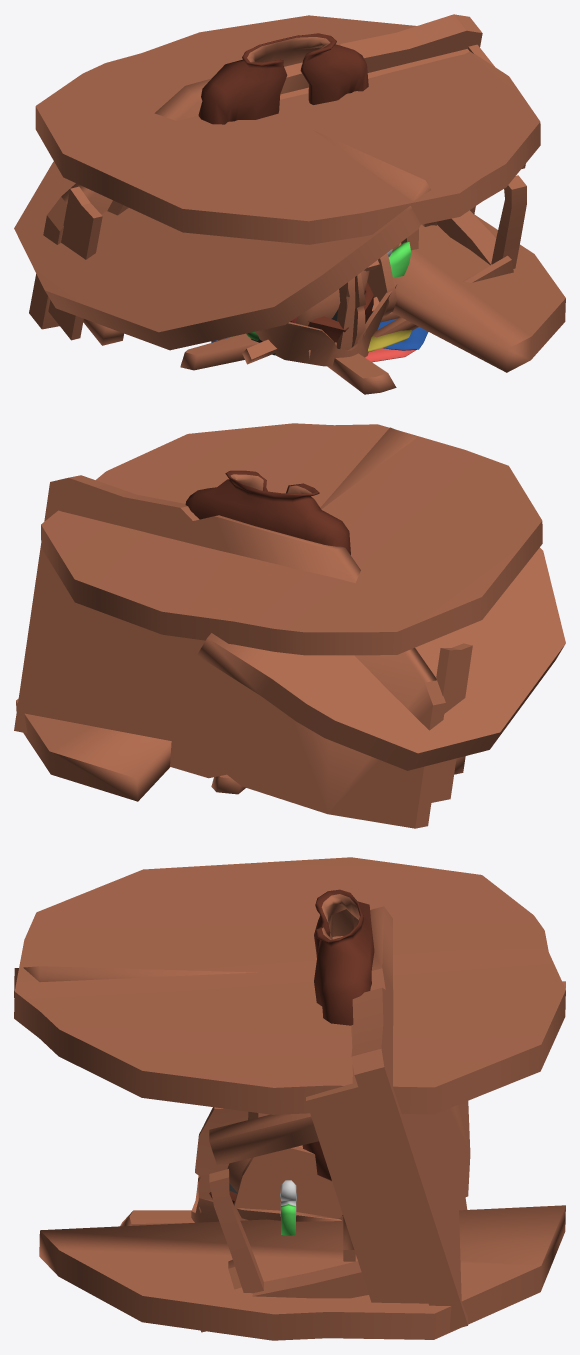
The model's file is pirata objetos Breder.fbx.
3 views of the same model, one above another, from view 1: azimuth 30°, elevation 25°; view 2: azimuth 150°, elevation 25°; view 3: azimuth 270°, elevation 25° (orthographic). The views are drawn at different scales.
Parts seen in each view (by area): view 1: MesaRedonda, MesaRedonda.Quebrada, Mesa.Comum.Quebrada, Casaco, Chapeu3, Cadeira.Comum.Quebrada, Banquinho.Quebrado, Pilha de Roupas, Carne, Chapeu2, PeixeGrande; view 2: MesaRedonda, Mesa.Comum.Quebrada, MesaRedonda.Quebrada, Casaco; view 3: MesaRedonda, Mesa.Comum.Quebrada, MesaRedonda.Quebrada, Casaco, Banquinho.Quebrado, Cadeira.Comum.Quebrada, Chapeu3, Carne.
Boxes of the visible parts, x1,y1,x2,y2 form: MesaRedonda: [35, 15, 540, 394]; MesaRedonda.Quebrada: [14, 130, 565, 372]; Mesa.Comum.Quebrada: [29, 14, 526, 345]; Casaco: [198, 33, 368, 124]; Chapeu3: [255, 280, 397, 366]; Cadeira.Comum.Quebrada: [308, 221, 437, 359]; Banquinho.Quebrado: [216, 253, 397, 364]; Pilha de Roupas: [211, 318, 428, 362]; Carne: [291, 249, 392, 326]; Chapeu2: [290, 282, 373, 342]; PeixeGrande: [246, 242, 411, 340]; MesaRedonda: [41, 423, 542, 794]; Mesa.Comum.Quebrada: [14, 475, 472, 828]; MesaRedonda.Quebrada: [16, 427, 565, 801]; Casaco: [185, 470, 350, 554]; MesaRedonda: [14, 857, 565, 1226]; Mesa.Comum.Quebrada: [201, 906, 470, 1332]; MesaRedonda.Quebrada: [14, 966, 565, 1340]; Casaco: [302, 889, 374, 1181]; Banquinho.Quebrado: [234, 1146, 342, 1220]; Cadeira.Comum.Quebrada: [195, 1107, 355, 1261]; Chapeu3: [191, 1175, 341, 1222]; Carne: [227, 1145, 302, 1216].
Bounding box in the file's own units: 208 × 127 × 189.
